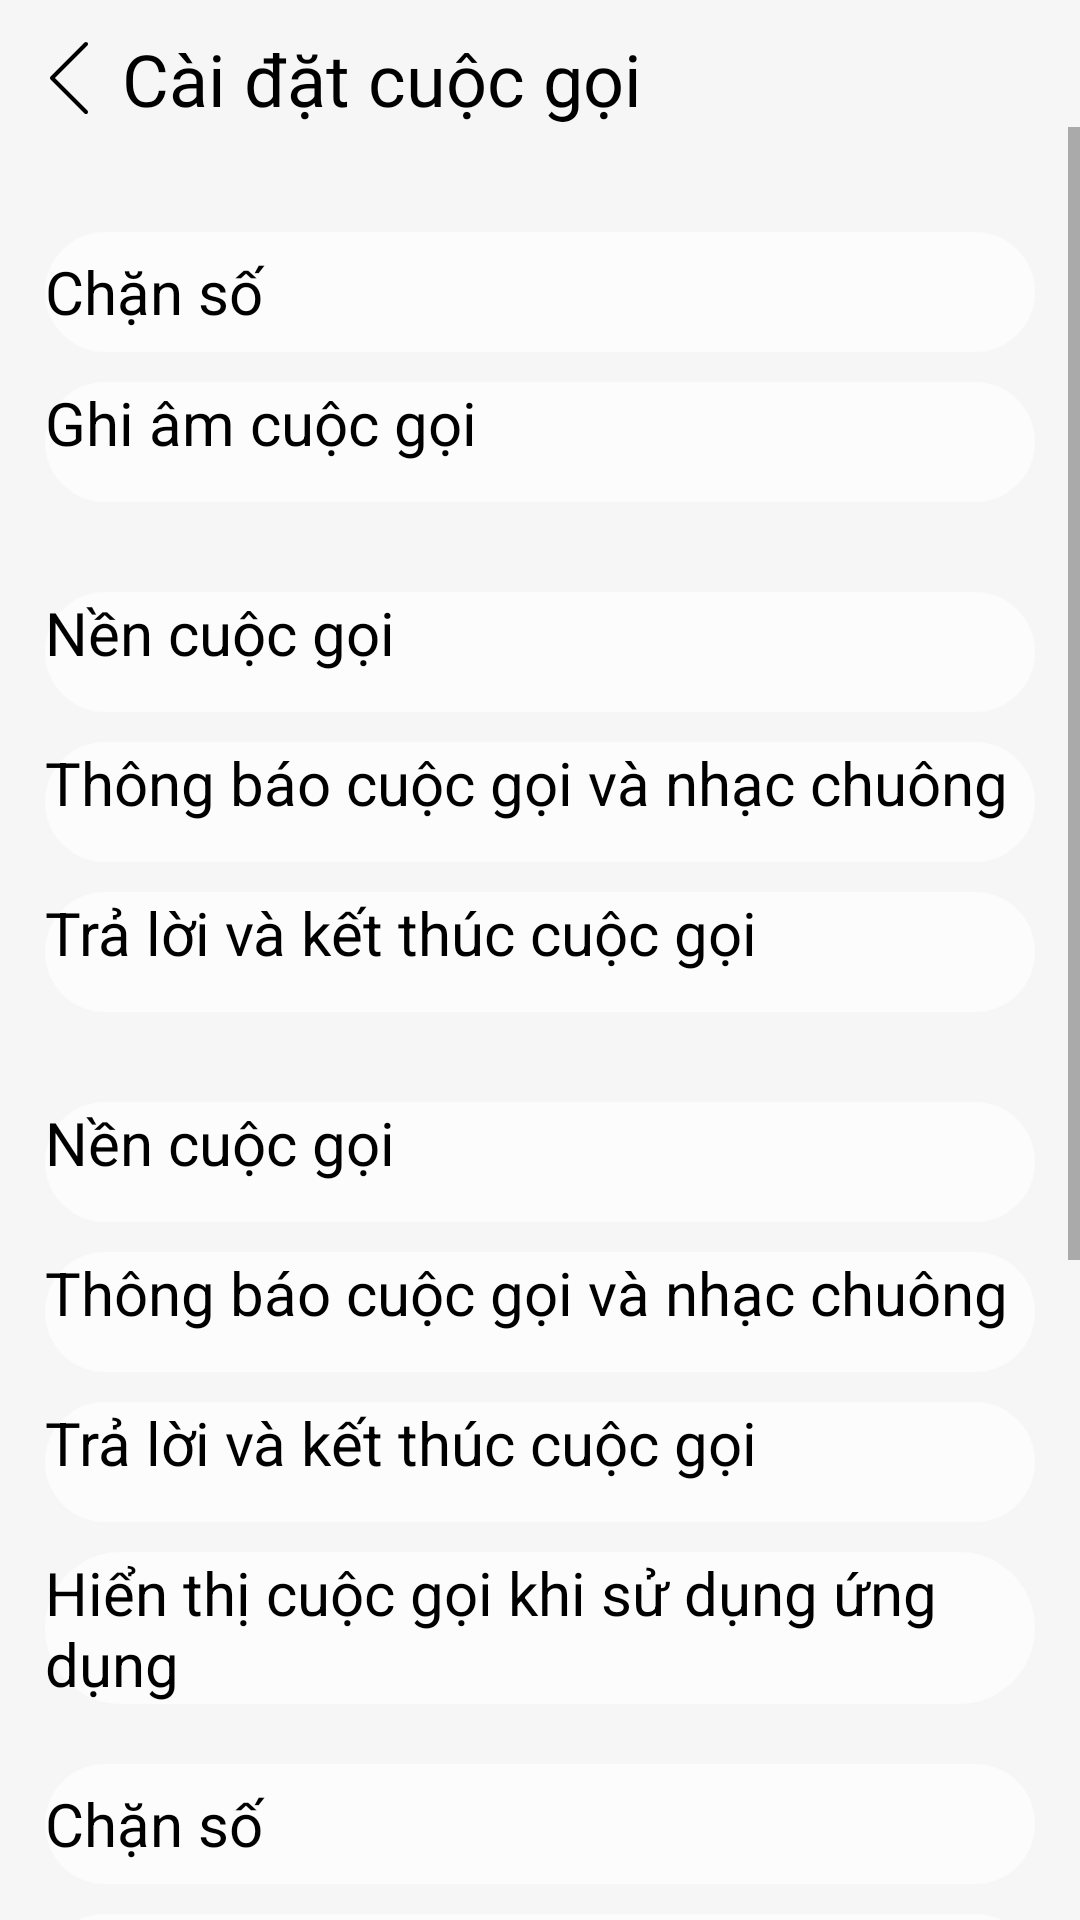

Icon click points for this 1080 x 1920 phone screenshot, format (x,y):
backmsg: (69,78)
